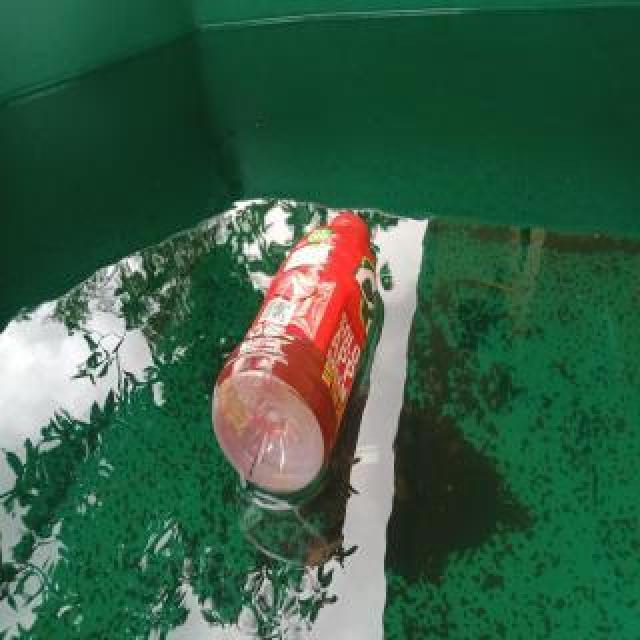bottle: (209, 208, 383, 498)
